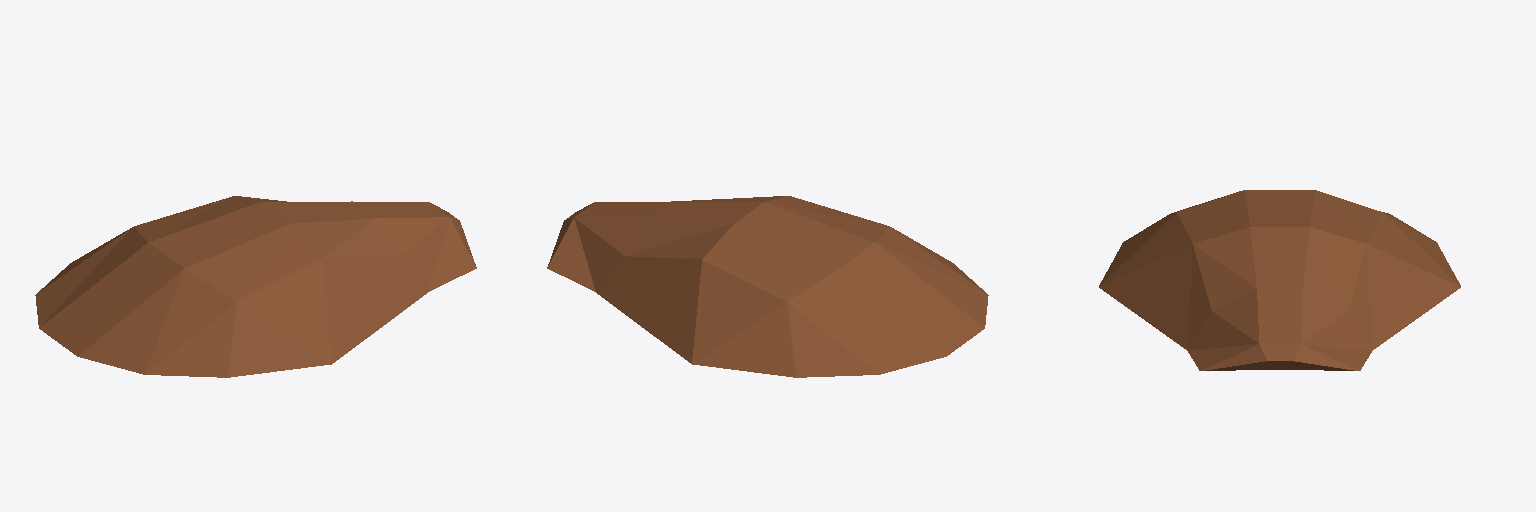
Rendered from Shell_Slate.obj.
3 views of the same model, side by side, from view 1: azimuth 30°, elevation 25°; view 2: azimuth 150°, elevation 25°; view 3: azimuth 270°, elevation 25° (orthographic).
Parts seen in each view (by area): view 1: Shell_Slate_Top.001_Cube.237; view 2: Shell_Slate_Top.001_Cube.237; view 3: Shell_Slate_Top.001_Cube.237, Shell_Slate_Bottom.001_Cube.238.
Part boxes in pixels (x1,y1,x2,y2): Shell_Slate_Top.001_Cube.237: (35, 196, 476, 377); Shell_Slate_Top.001_Cube.237: (547, 196, 988, 377); Shell_Slate_Top.001_Cube.237: (1099, 190, 1460, 370); Shell_Slate_Bottom.001_Cube.238: (1206, 361, 1353, 370).
Size of the model in its own units: 0.1079 by 0.02 by 0.0858.